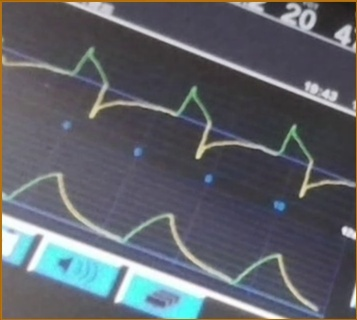Normal Flow: (3, 43, 357, 198)
Normal Volume: (3, 169, 319, 312)
